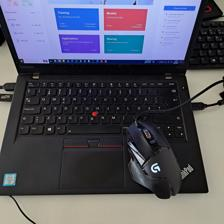mouse: (122, 119, 182, 200)
